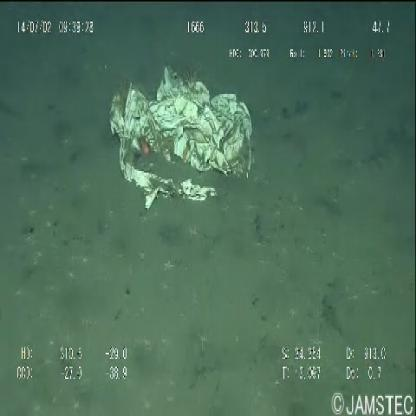Rác: (104, 56, 263, 230)
